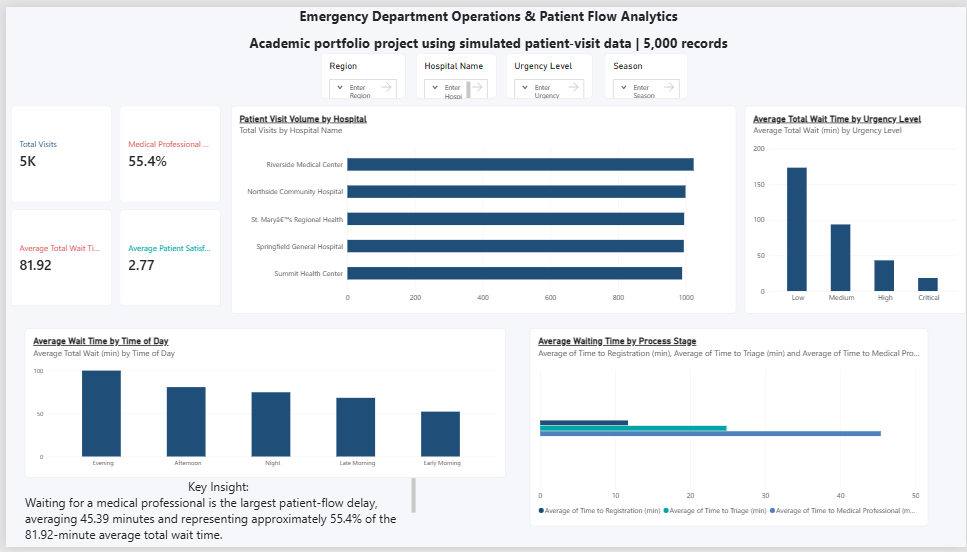

The dashboard page shown, as its layout file describes it:
{"tool":"powerbi","page":{"name":"Executive Overview","canvas":[1920,1080],"ordinal":0},"visuals":[{"type":"textbox","box":[10.3,0,1910.1,92.6],"z":0},{"type":"cardVisual","fields":{"Data":["ER_Visits.Total Visits"]},"box":[10.3,197.6,201.7,193.5],"z":1000},{"type":"cardVisual","fields":{"Data":["ER_Visits.Average Total Wait (min)"]},"box":[10.3,405.5,201.7,193.5],"z":2000},{"type":"cardVisual","fields":{"Data":["ER_Visits.Average Satisfaction"]},"box":[226.4,405.5,202,193],"z":3000},{"type":"cardVisual","fields":{"Data":["ER_Visits.Medical Professional Delay Share"]},"box":[226.4,197.6,202,193],"z":4000},{"type":"clusteredBarChart","title":"Patient Visit Volume by Hospital","fields":{"Category":["ER_Visits.Hospital Name"],"Y":["ER_Visits.Total Visits"]},"box":[450.8,197.6,1010.6,415.8],"z":5000},{"type":"clusteredColumnChart","title":"Average Total Wait Time by Urgency Level","fields":{"Category":["ER_Visits.Urgency Level"],"Y":["ER_Visits.Average Total Wait (min)"]},"box":[1477.9,197.6,442.5,415.8],"z":6000},{"type":"clusteredColumnChart","title":"Average Wait Time by Time of Day","fields":{"Category":["ER_Visits.Time of Day"],"Y":["ER_Visits.Average Total Wait (min)"]},"box":[38.3,643.4,962.6,298.7],"z":7000},{"type":"clusteredBarChart","title":"Average Waiting Time by Process Stage","fields":{"Y":["Avg(ER_Visits.Time to Registration (min))","Avg(ER_Visits.Time to Triage (min))","Avg(ER_Visits.Time to Medical Professional (min))"]},"box":[1046.8,643.4,796.6,395.7],"z":8000},{"type":"slicer","fields":{"Values":["ER_Visits.Region"]},"box":[629.8,92.6,168.8,90.6],"z":9000},{"type":"slicer","fields":{"Values":["ER_Visits.Hospital Name"]},"box":[819.2,92.6,160.5,90.6],"z":10000},{"type":"slicer","fields":{"Values":["ER_Visits.Urgency Level"]},"box":[1000.3,92.6,172.9,90.6],"z":11000},{"type":"slicer","fields":{"Values":["ER_Visits.Season"]},"box":[1197.9,92.6,166.7,90.6],"z":12000},{"type":"textbox","box":[38.3,942.1,781.3,137.9],"z":13000}]}

Visuals, with their boxes in screenshot pixels (x1, y1, x2, y2), scaled from the page's 1920x1080 canvas onto the 967x552 screenshot:
textbox: l=5, t=0, r=966, b=47
cardVisual - ER_Visits.Total Visits: l=5, t=101, r=107, b=200
cardVisual - ER_Visits.Average Total Wait (min): l=5, t=207, r=107, b=306
cardVisual - ER_Visits.Average Satisfaction: l=114, t=207, r=216, b=306
cardVisual - ER_Visits.Medical Professional Delay Share: l=114, t=101, r=216, b=200
"Patient Visit Volume by Hospital" clusteredBarChart: l=227, t=101, r=736, b=314
"Average Total Wait Time by Urgency Level" clusteredColumnChart: l=744, t=101, r=966, b=314
"Average Wait Time by Time of Day" clusteredColumnChart: l=19, t=329, r=504, b=482
"Average Waiting Time by Process Stage" clusteredBarChart: l=527, t=329, r=928, b=531
slicer - ER_Visits.Region: l=317, t=47, r=402, b=94
slicer - ER_Visits.Hospital Name: l=413, t=47, r=493, b=94
slicer - ER_Visits.Urgency Level: l=504, t=47, r=591, b=94
slicer - ER_Visits.Season: l=603, t=47, r=687, b=94
textbox: l=19, t=482, r=413, b=551
